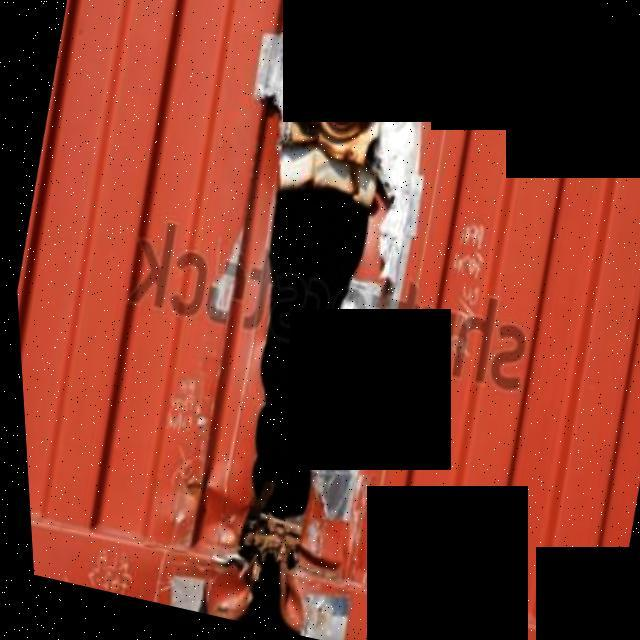hole: (189, 159, 396, 536), (190, 525, 324, 639)
